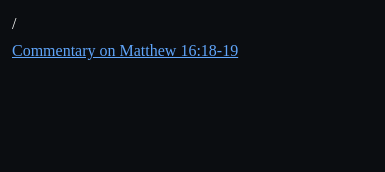
Test: opening a commentary link › falls back to in-app navigation when no tab shell is present
Click the link "Commentary on Matthew 16:18-19" at [125, 51], box [12, 42, 238, 59]
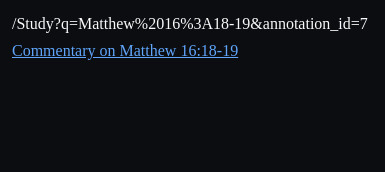
Expected: the text with test id "route" reads "/Study?q=Matthew%2016%3A18-19&annotation_id=7", [12, 15, 368, 32]
